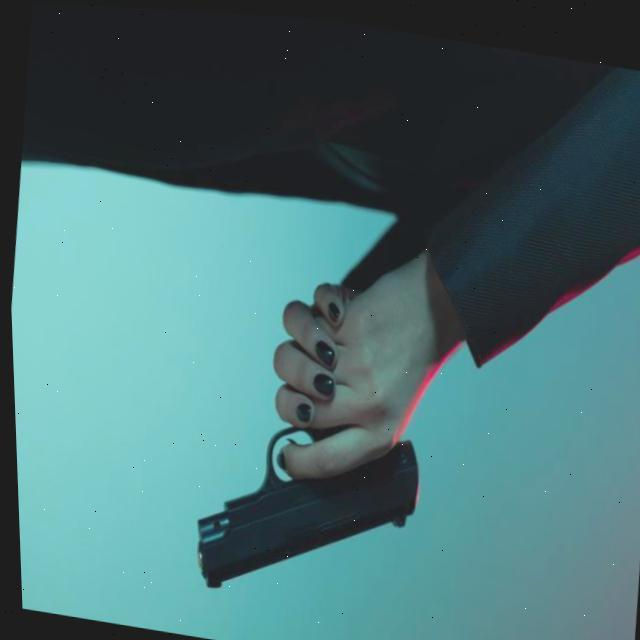gun: (182, 403, 426, 618)
